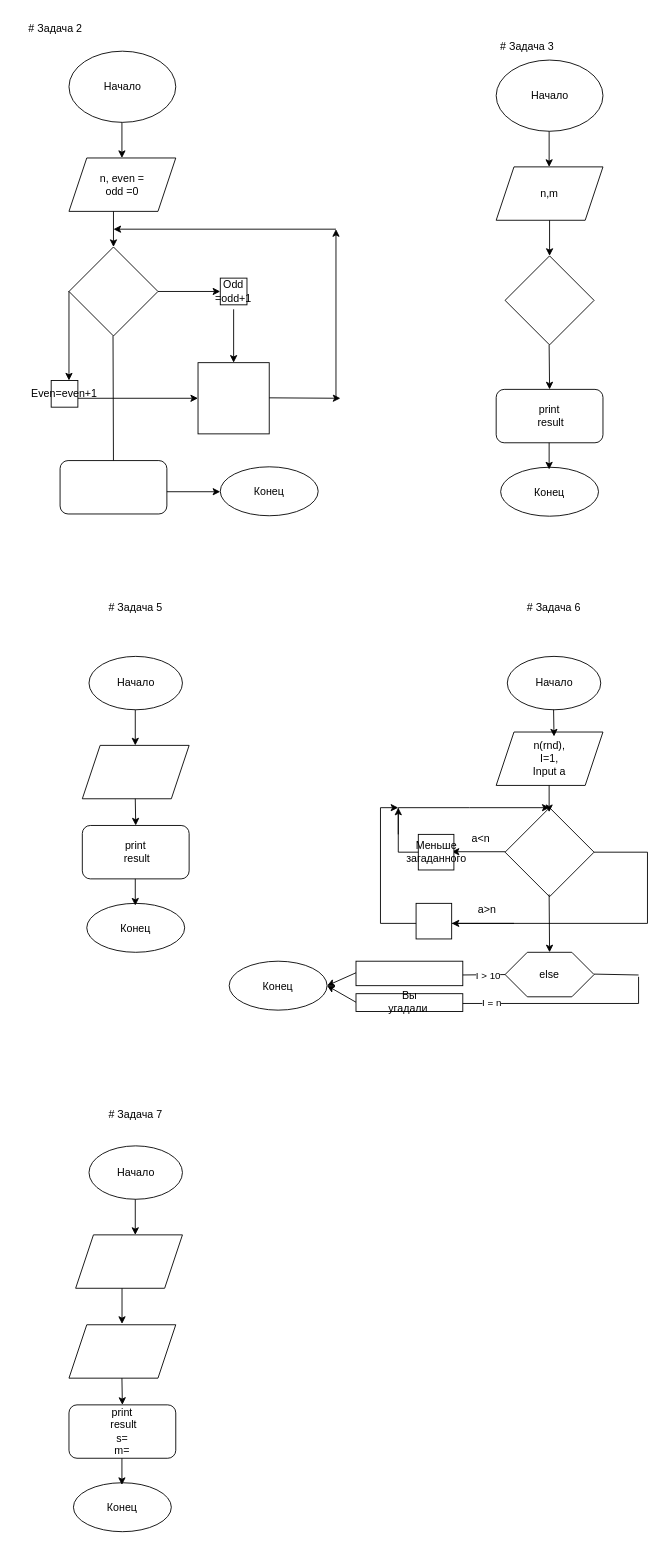
The diagram is 664 pixels wide and 1547 high, and some of its shapes have lost their labels. The box of each missing label's shape, as (x1, y1, x2, y2) in pixels:
I in range: (81, 744, 189, 799)
I in range s= m=: (68, 1324, 176, 1378)
n = n//10: (197, 362, 269, 434)
n s = 0: (75, 1234, 182, 1288)
print odd, even: (59, 460, 167, 514)
While I <= 10 a=: (504, 807, 594, 897)
While n>0, n%2==0: (68, 246, 158, 336)
While n>0, n= m=: (504, 255, 594, 345)
Больше загаданного: (415, 902, 452, 939)
Вы использовали все попытки: (355, 960, 463, 986)
